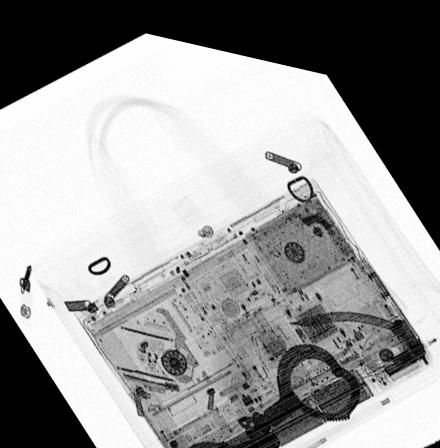HandCuffs: (179, 328, 361, 448)
